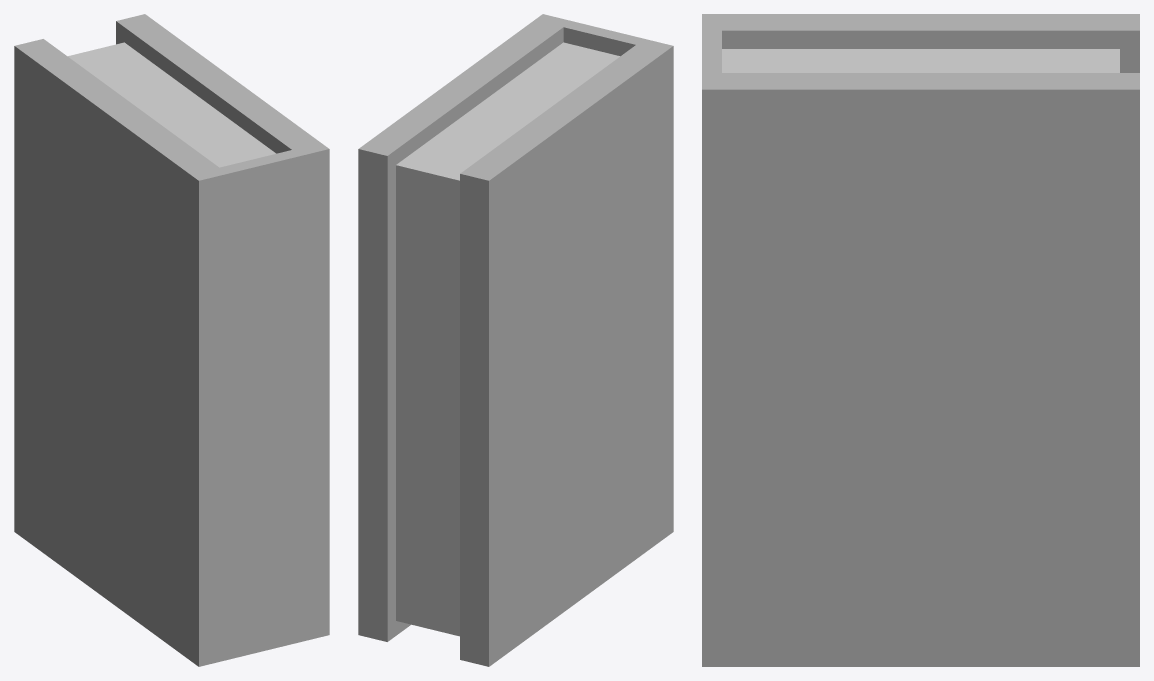
The model's file is WhiteBook.fbx.
3 views of the same model, side by side, from view 1: azimuth 30°, elevation 25°; view 2: azimuth 150°, elevation 25°; view 3: azimuth 270°, elevation 25° (orthographic). The views are drawn at different scales.
Visible parts, largest first — view 1: WhiteBook; view 2: WhiteBook; view 3: WhiteBook.
Part boxes in pixels (left/top/right/bottom): WhiteBook: left=14, top=14, right=329, bottom=666; WhiteBook: left=358, top=14, right=673, bottom=666; WhiteBook: left=702, top=14, right=1139, bottom=666.
Size of the model in its own units: 9 by 32 by 22.
1 material, 1 textured.
